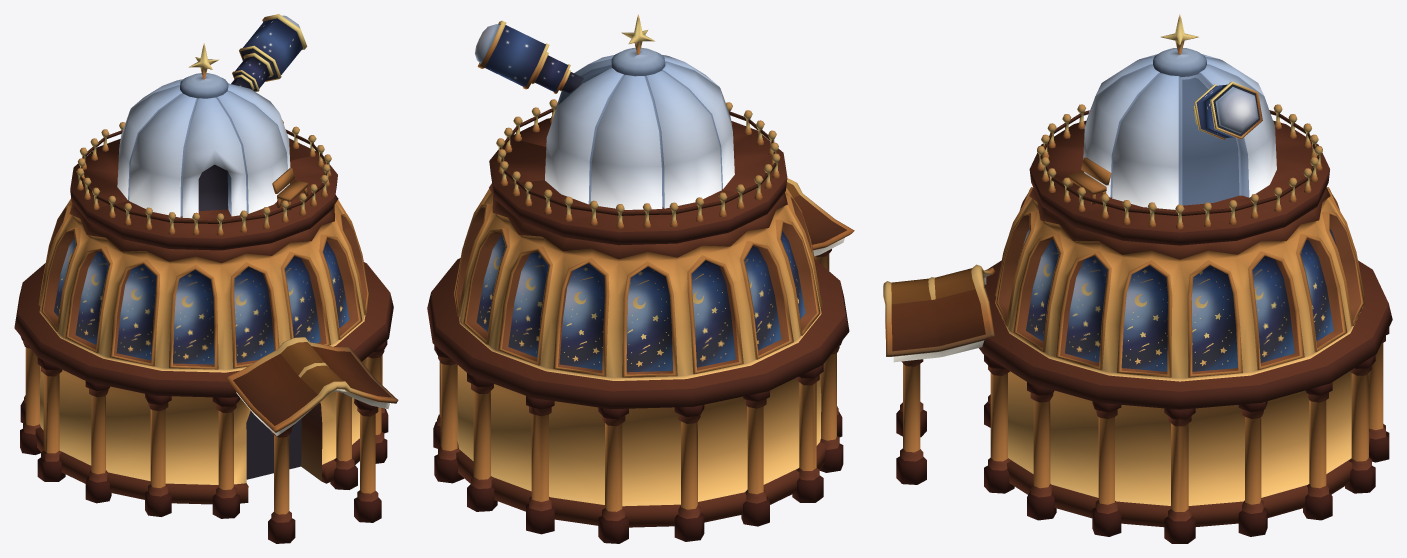
File: library.fbx
The picture shows the model from 3 angles, left to right: view 1: azimuth 30°, elevation 25°; view 2: azimuth 150°, elevation 25°; view 3: azimuth 270°, elevation 25°; orthographic projection. The views are drawn at different scales.
Parts seen in each view (by area): view 1: Cylinder; view 2: Cylinder; view 3: Cylinder.
Boxes of the visible parts, x1,y1,x2,y2 form: Cylinder: [14, 14, 398, 543]; Cylinder: [427, 14, 854, 543]; Cylinder: [883, 14, 1392, 543].
Size of the model in its own units: 333 by 381 by 398.
